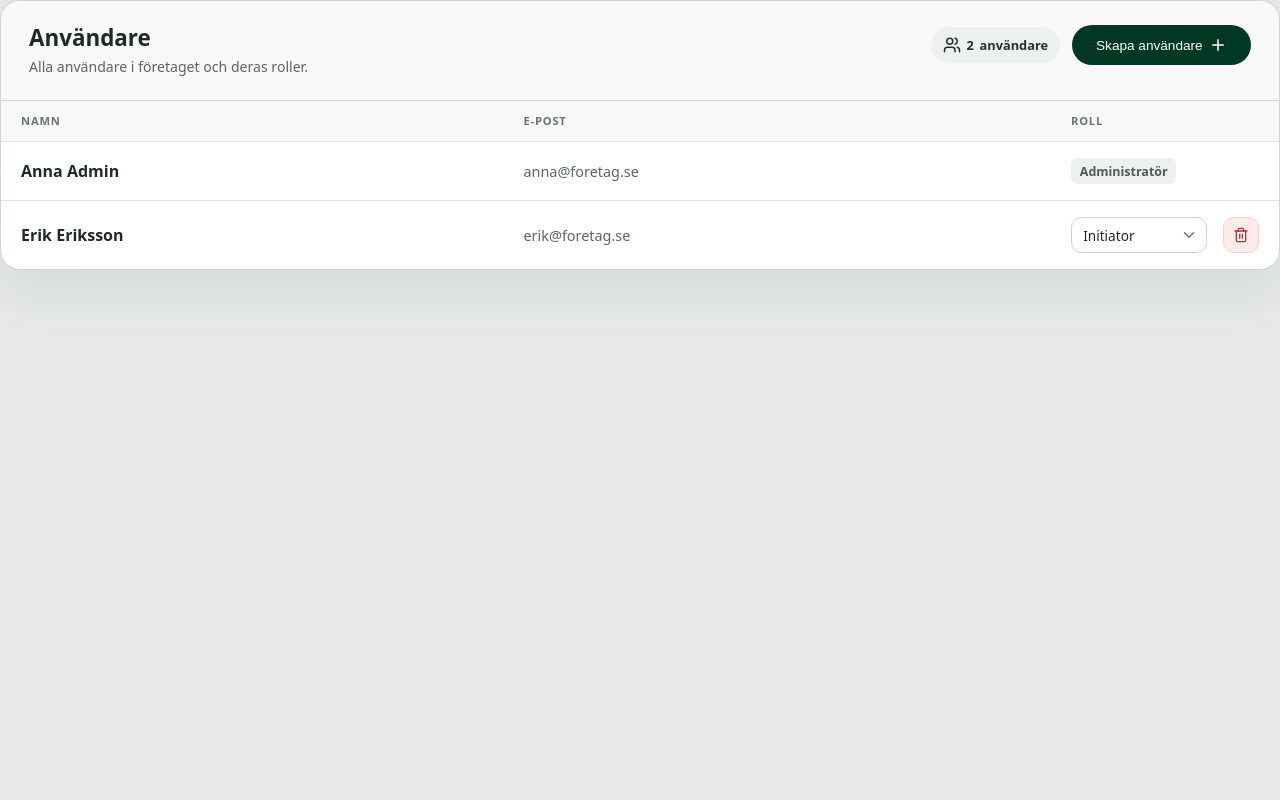
Test: UserList › deleting › explains that a user with payment history cannot be deleted (409)
Click the button named "Ta bort Erik Eriksson" at [1241, 235], box [1223,217,1259,253]
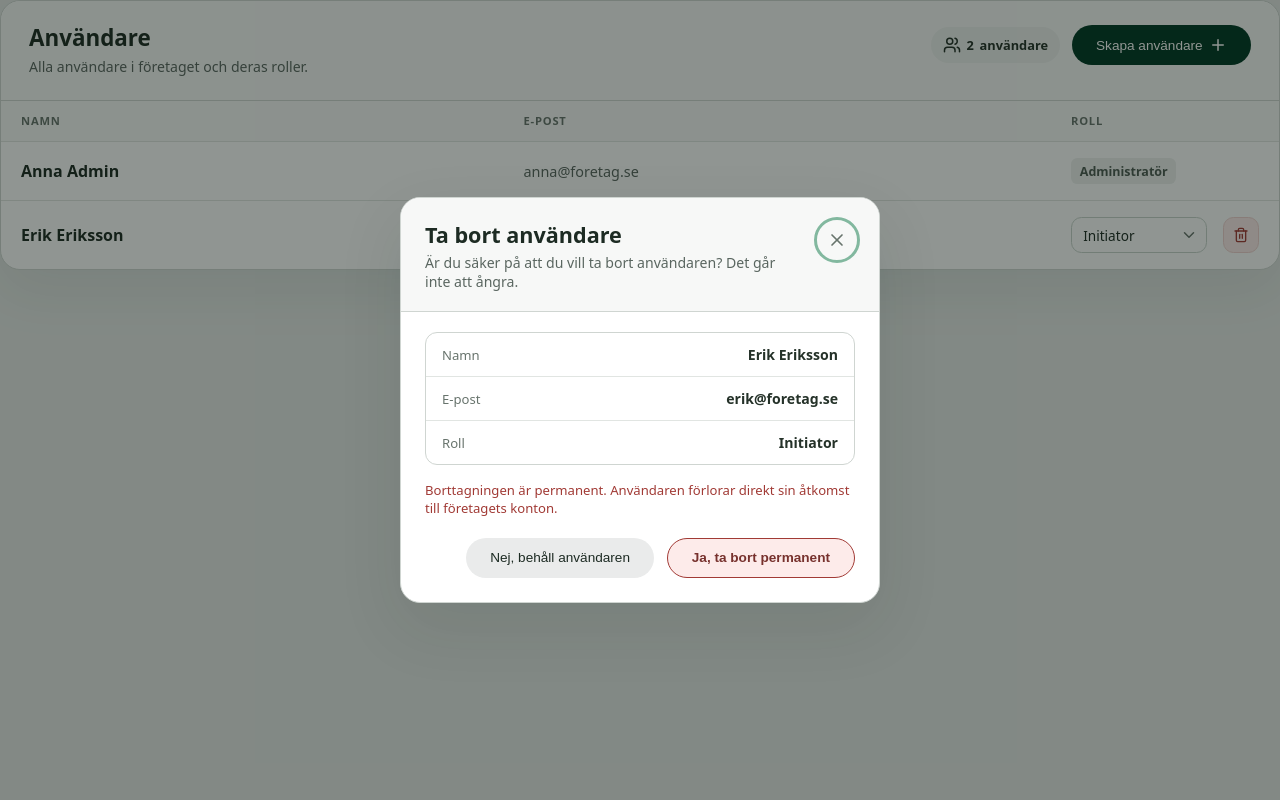
Click the button "Ja, ta bort permanent" at [761, 558], box [667,538,855,578]
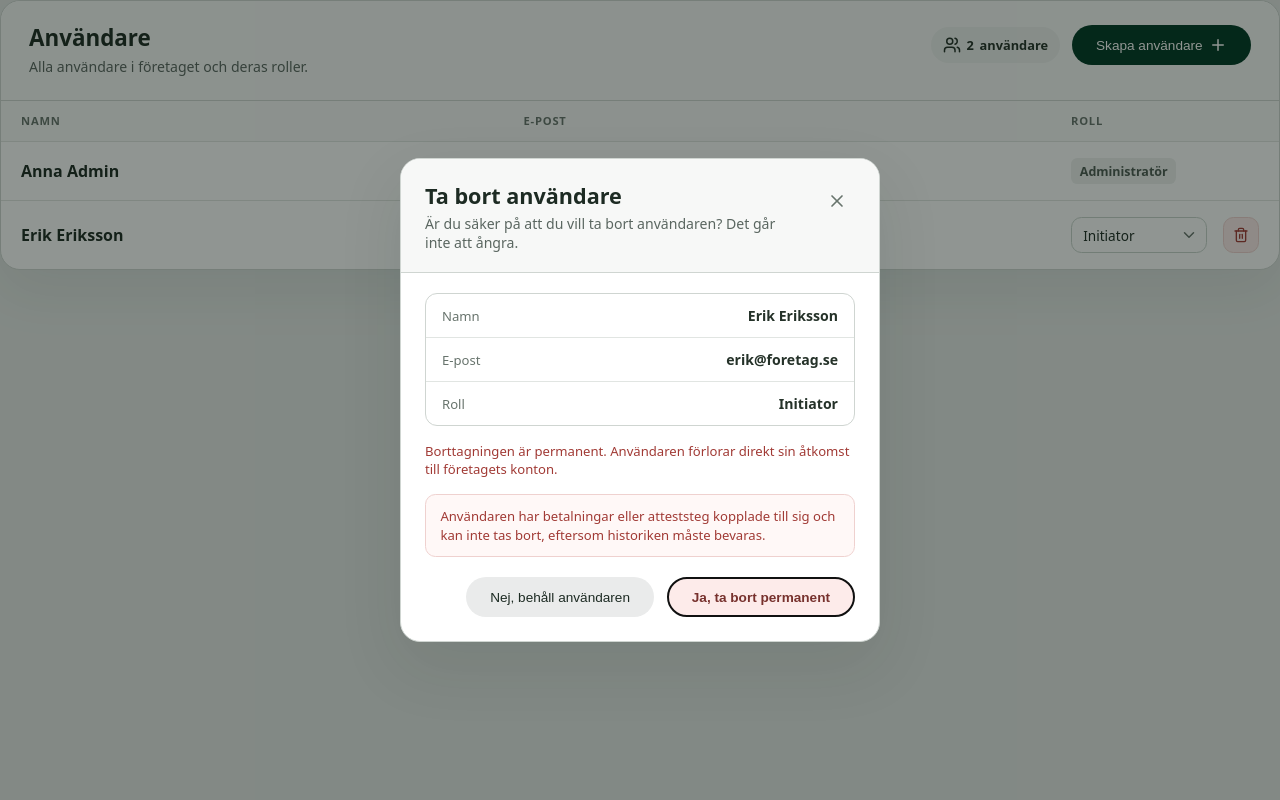
Check: the text "Erik Eriksson" is shown, box [1,201,504,269]
Check: the dialog is shown, box [400,158,880,642]
Check: the message shows "historiken måste bevaras", box [440,507,835,544]
